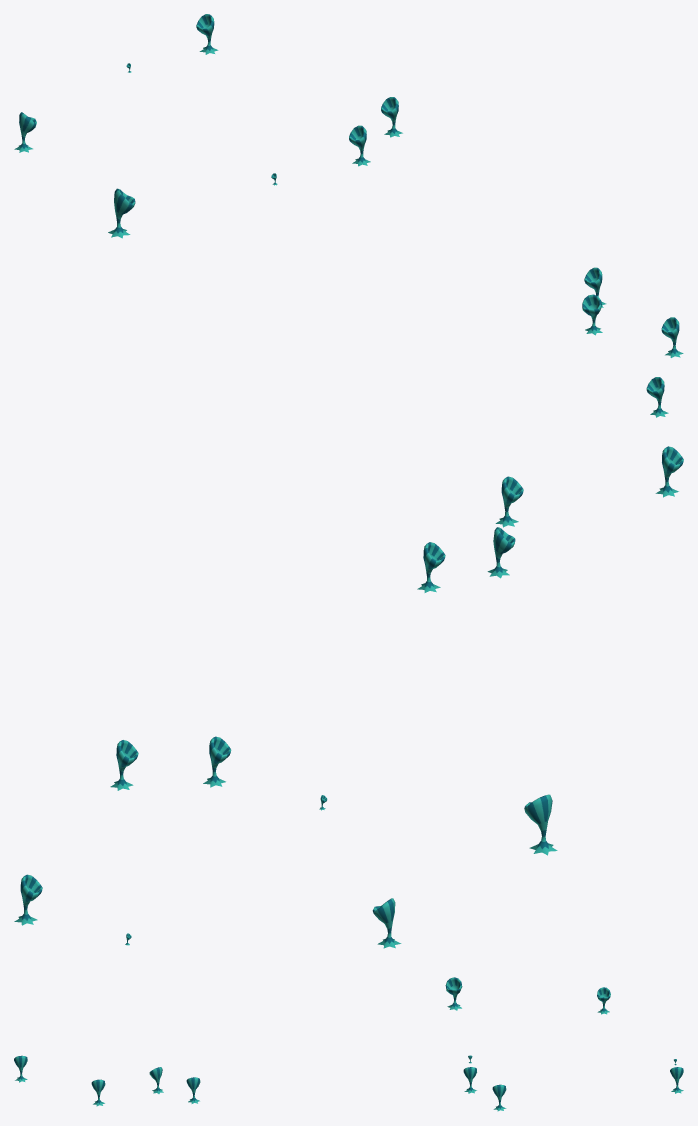
Rendered from plantD.fbx.
3 renders of one model, top to bottom at view 1: azimuth 30°, elevation 25°; view 2: azimuth 150°, elevation 25°; view 3: azimuth 270°, elevation 25°, orthographic. The views are drawn at different scales.
Visible parts, largest first — view 1: plantD; view 2: plantD; view 3: plantD.
Boxes of the visible parts, <box> form: plantD: <box>14,14,683,417</box>; plantD: <box>14,446,683,948</box>; plantD: <box>14,977,683,1111</box>.
Size of the model in its own units: 1462 by 188 by 3844.
